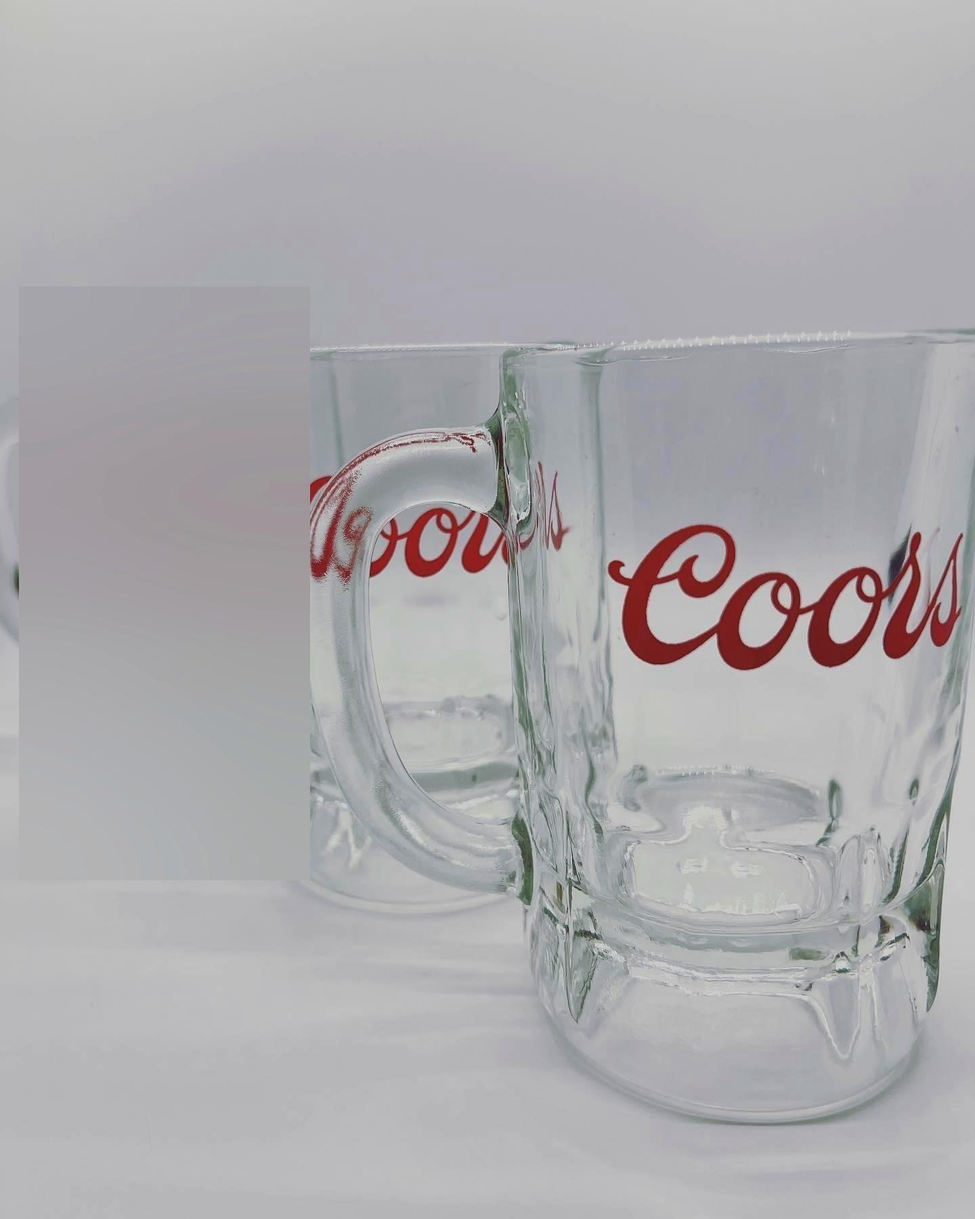glass-mug: (285, 322, 975, 1134)
